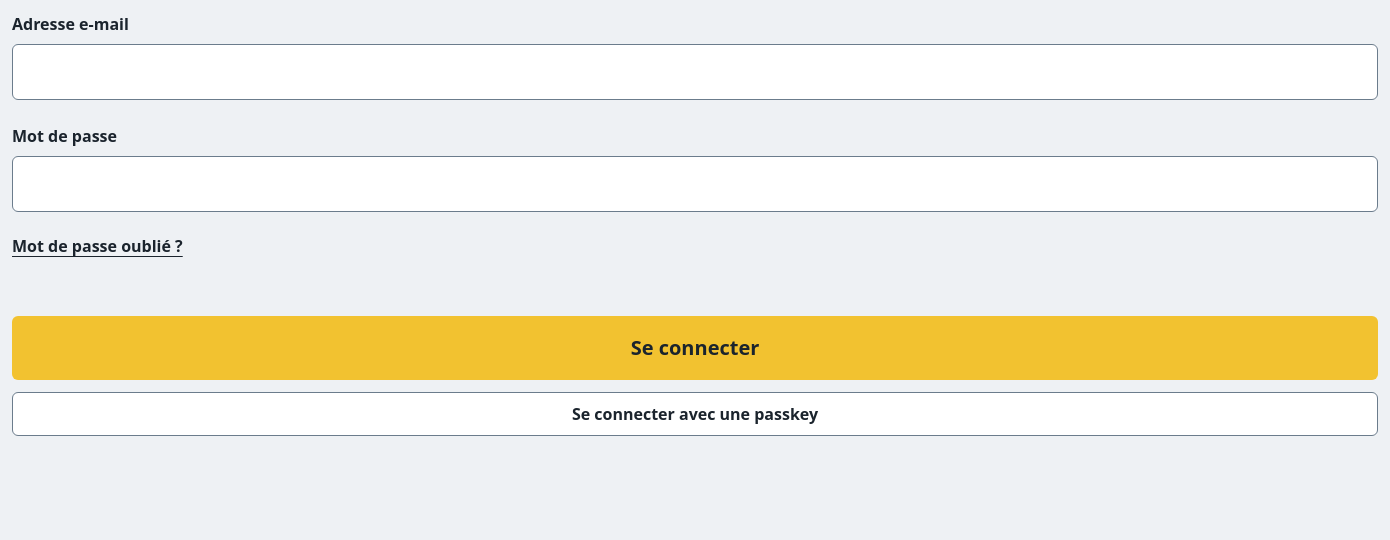
Test: LoginForm, passkey › une annulation n'envoie rien
Click the button "Se connecter avec une passkey" at (695, 414), box [12,392,1378,436]
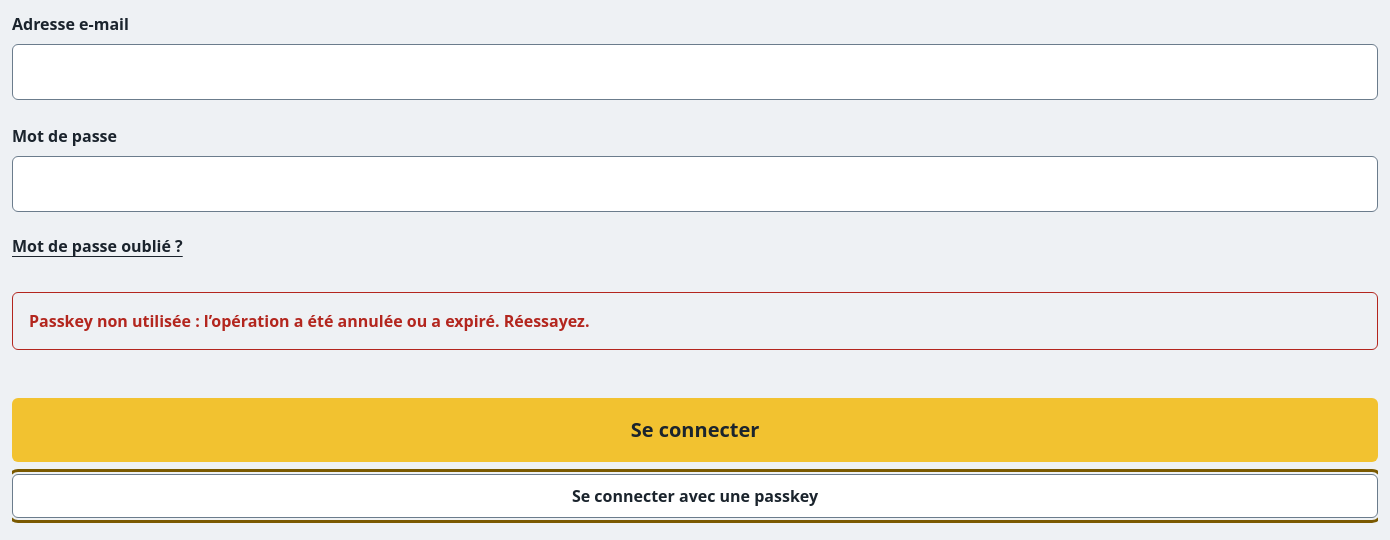
Check: the message reads "Passkey non utilisée : l’opération a été annulée ou a expiré. Réessayez.", box [29,310,590,332]
